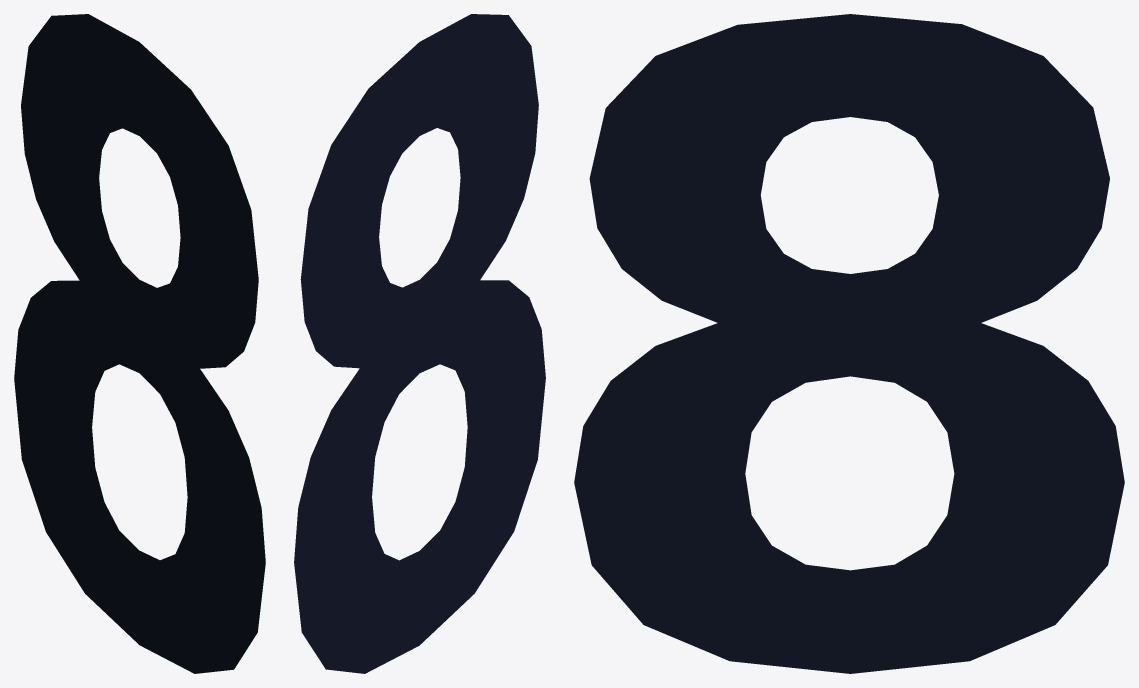
The model's file is lat_glyph_8.dae.
3 renders of one model, left to right at view 1: azimuth 30°, elevation 25°; view 2: azimuth 150°, elevation 25°; view 3: azimuth 270°, elevation 25°, orthographic. The views are drawn at different scales.
Visible parts, largest first — view 1: lat_glyph_8_L8; view 2: lat_glyph_8_L8; view 3: lat_glyph_8_L8.
Boxes of the visible parts, x1,y1,x2,y2 form: lat_glyph_8_L8: (14, 14, 265, 673); lat_glyph_8_L8: (294, 14, 545, 673); lat_glyph_8_L8: (574, 14, 1124, 673).
Bounding box in the file's own units: 0 × 0.785 × 1.04.
